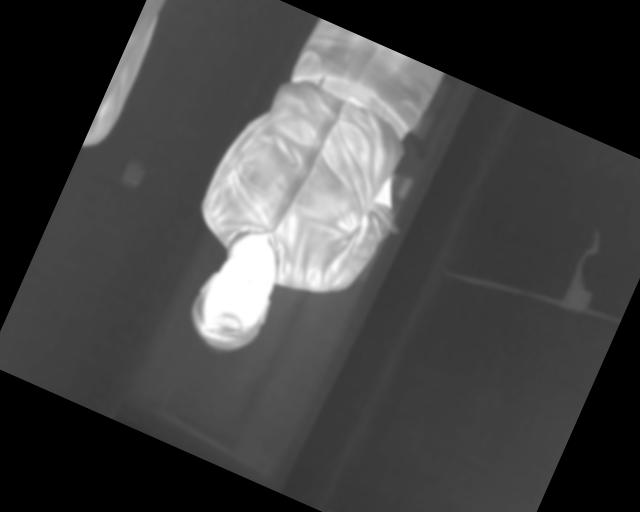face: (178, 230, 293, 365)
